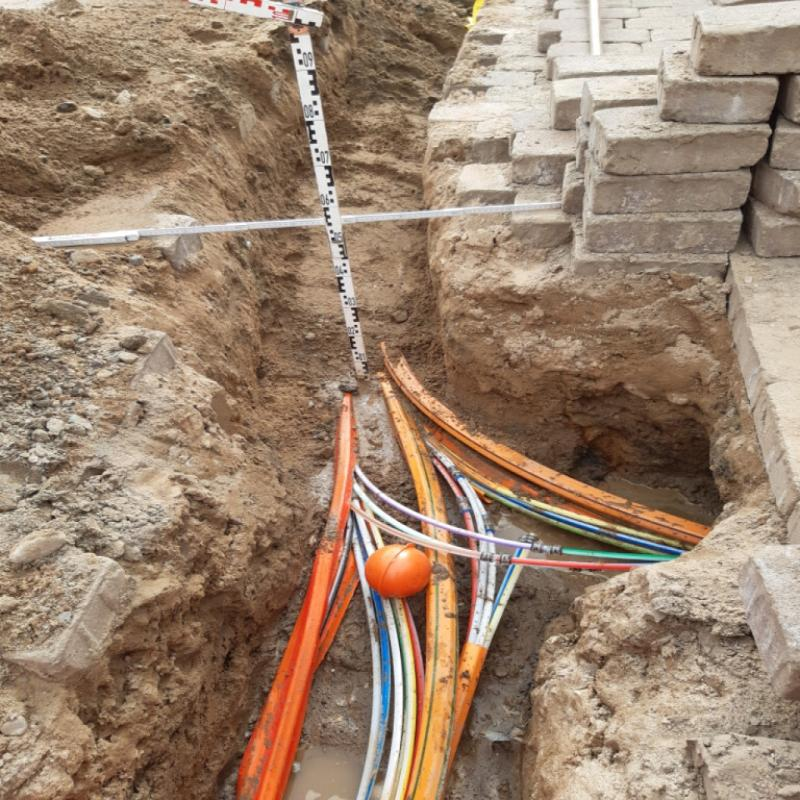Kugelmarker: (367, 547, 427, 599)
Orang-Speednetrohrchen: (240, 354, 711, 800)
